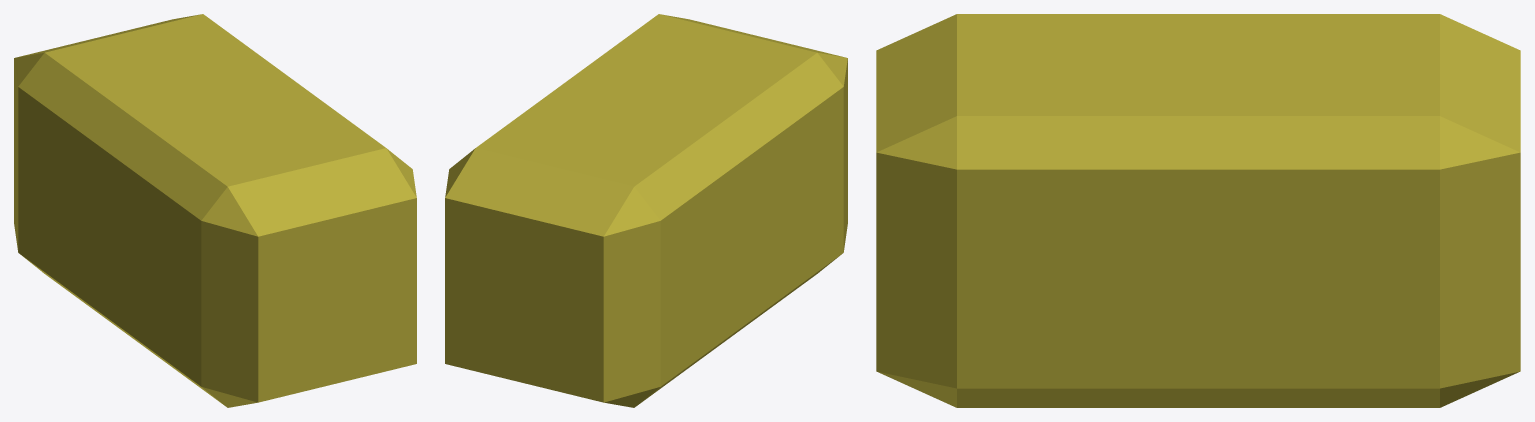
Rendered from haybale.fbx.
The picture shows the model from 3 angles, left to right: view 1: azimuth 30°, elevation 25°; view 2: azimuth 150°, elevation 25°; view 3: azimuth 270°, elevation 25°; orthographic projection. The views are drawn at different scales.
Visible parts, largest first — view 1: mergedBlocks; view 2: mergedBlocks; view 3: mergedBlocks.
Boxes of the visible parts, x1,y1,x2,y2 form: mergedBlocks: (14,14,416,407); mergedBlocks: (445,14,847,407); mergedBlocks: (876,14,1520,407).
Bounding box in the file's own units: 5 × 5 × 10.
